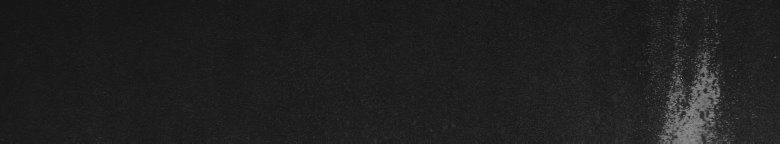kb: (660, 28, 716, 136)
